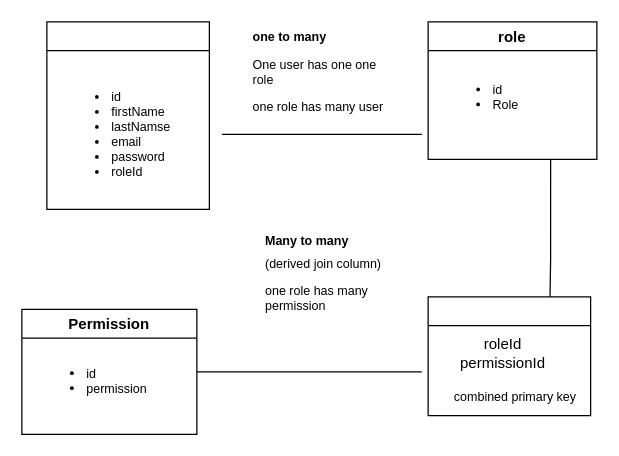
Some shapes in this 619 by 456 pixel diagram are drawn without their labels. Each missing label, with the box of its shape:
RolesAndPermission: (427, 296, 591, 416)
user: (46, 21, 209, 209)
